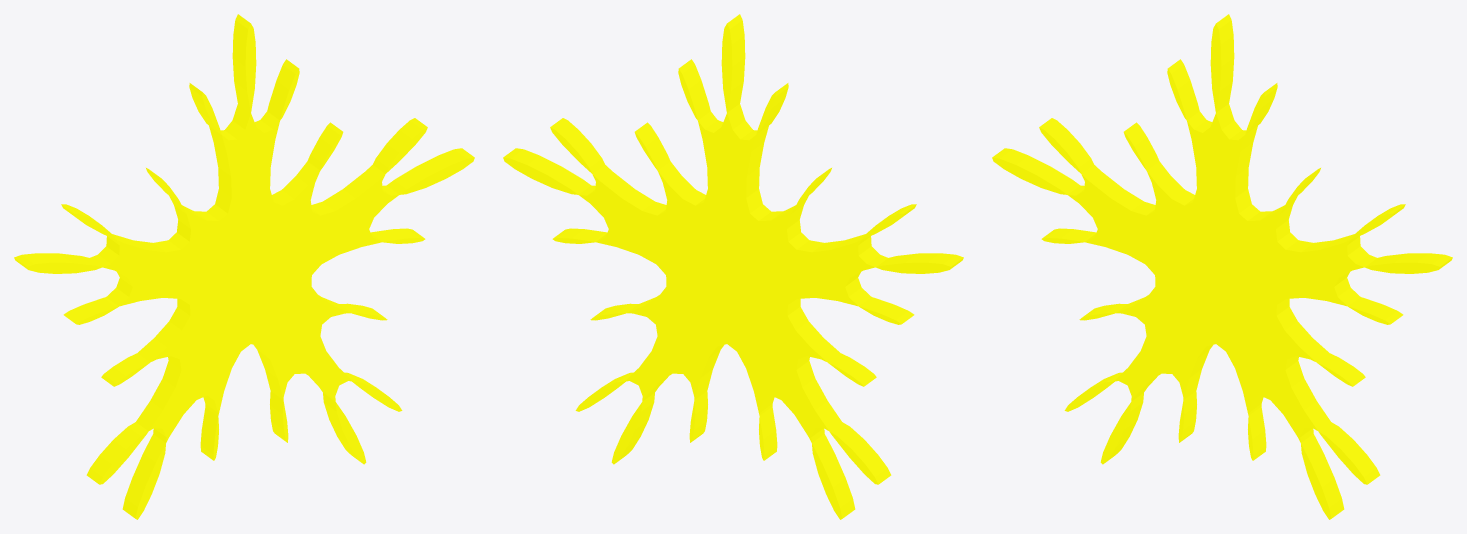
The model's file is HiStar.glb.
The picture shows the model from 3 angles, left to right: view 1: azimuth 30°, elevation 25°; view 2: azimuth 150°, elevation 25°; view 3: azimuth 330°, elevation 25°; orthographic projection.
Size of the model in its own units: 1 by 1 by 0.05.
